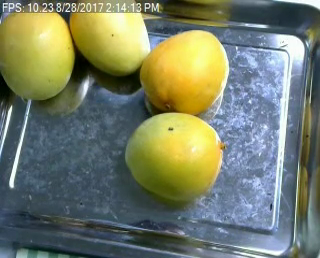Mango: (128, 111, 224, 199), (140, 29, 230, 118), (0, 4, 76, 101), (70, 2, 151, 74)
